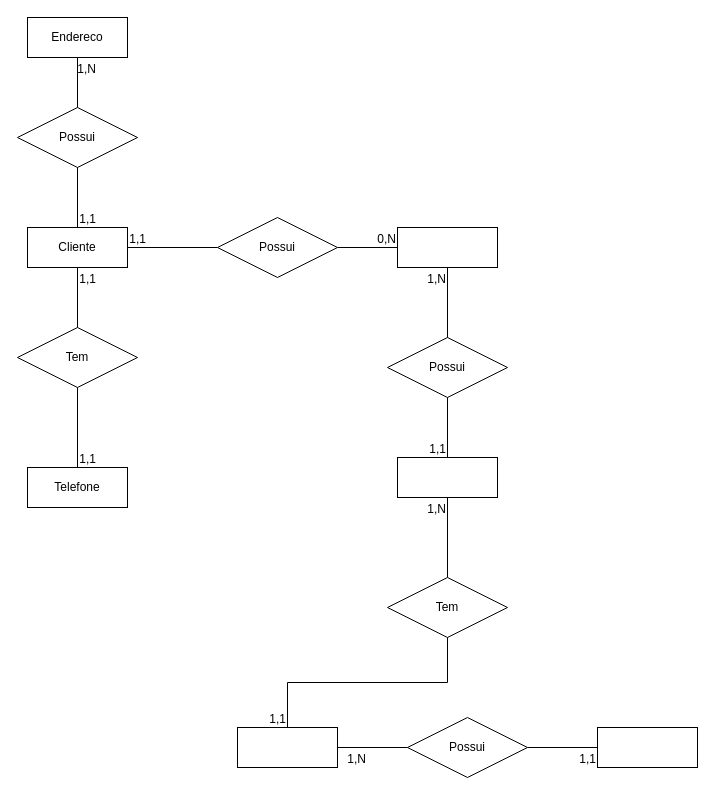
The diagram is 715 pixels wide and 795 high, and some of its shapes have lost their labels. The shapes that lost their labels are listed below. From the top down, each one's centre as x and y in pixels, then its label:
pixel 447 247: Pedidos
pixel 447 477: Itens_pedidos
pixel 287 747: Produto
pixel 647 747: Categoria
